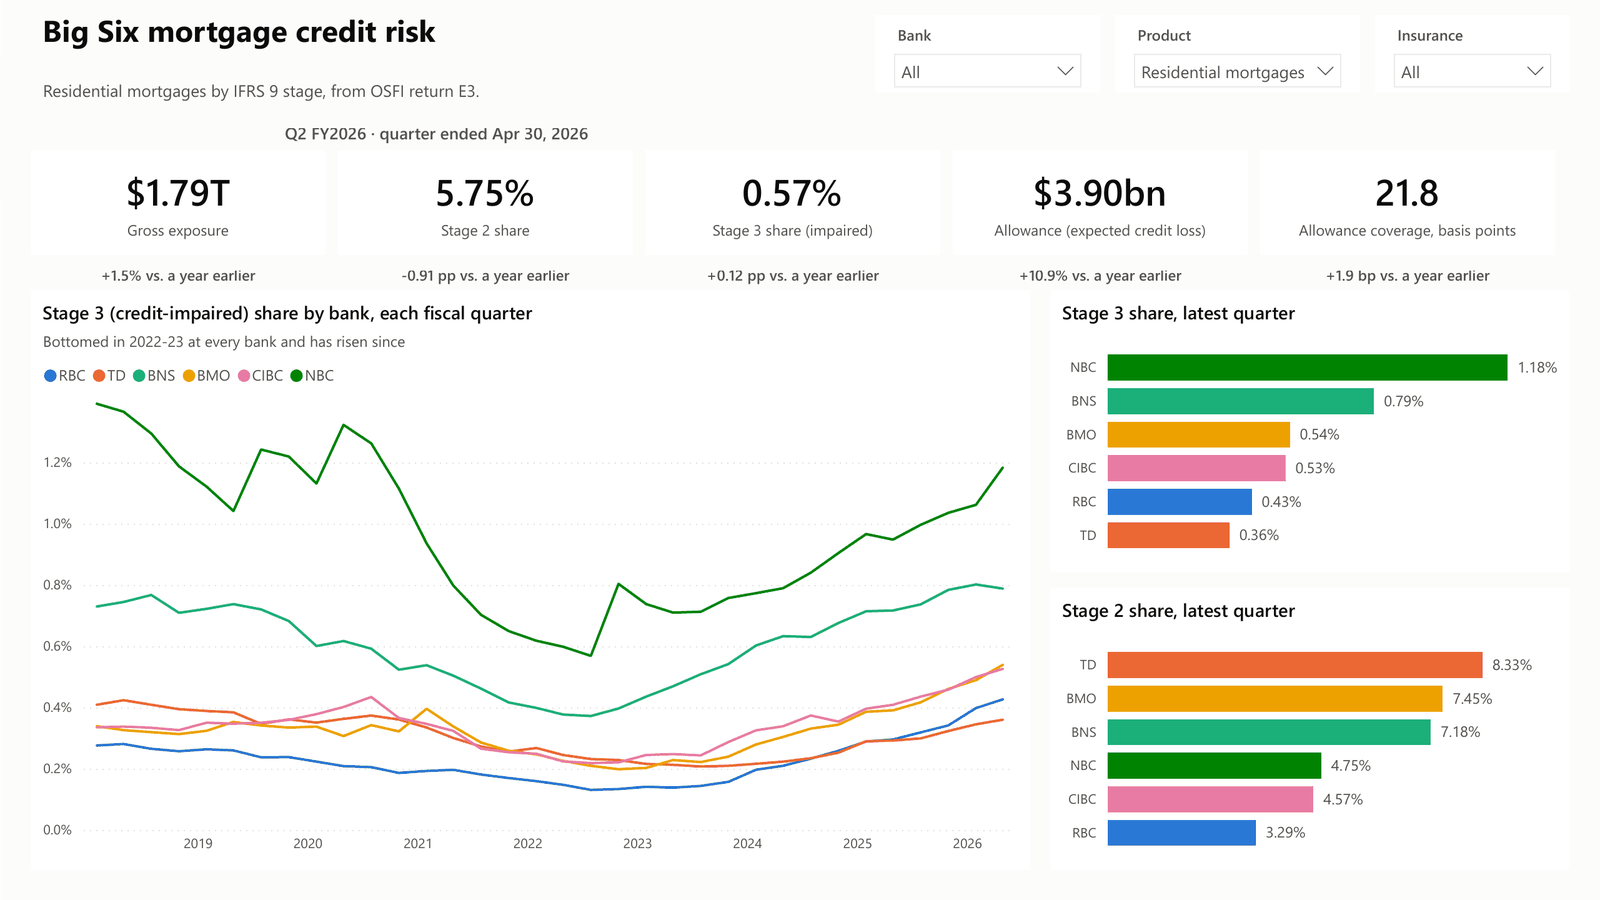

Layout of this report page (visuals, bound fields, positions):
{"tool":"tableau","page":{"name":"Credit quality","canvas":[1200,820],"ordinal":0},"visuals":[{"type":"text","box":[24,16,900,40]},{"type":"parameter","param":"[Parameters].[Parameter 1]","box":[950,16,226,60]},{"type":"text","box":[24,56,900,28]},{"type":"worksheet","title":"Metric trend","mark":"Line","rows":["Calculation_5310000000000000006"],"cols":["quarter_end_date"],"box":[24,96,1012,360]},{"type":"legend","title":"Metric trend","param":"[federated.724s6qlnty481m6s1aln5zs2gs1u].[none:short_name:nk]","box":[1050,96,126,220]},{"type":"worksheet","title":"Latest quarter by bank","mark":"Bar","rows":["short_name"],"cols":["Calculation_5310000000000000006"],"box":[24,470,576,300]},{"type":"worksheet","title":"Change from low","mark":"Bar","rows":["short_name"],"cols":["Calculation_5310000000000000012"],"box":[612,470,564,300]},{"type":"text","box":[24,780,1152,30]}]}

Visuals, with their boxes on the page's 1200x820 design canvas (x1, y1, x2, y2). These are canvas units, not pixel positions in the 1600x900 screenshot, which may show the page scaled, cropped or inside an application window:
text: bbox=(24, 16, 924, 56)
parameter: bbox=(950, 16, 1176, 76)
text: bbox=(24, 56, 924, 84)
"Metric trend" worksheet (Line marks): bbox=(24, 96, 1036, 456)
"Metric trend" legend: bbox=(1050, 96, 1176, 316)
"Latest quarter by bank" worksheet (Bar marks): bbox=(24, 470, 600, 770)
"Change from low" worksheet (Bar marks): bbox=(612, 470, 1176, 770)
text: bbox=(24, 780, 1176, 810)
